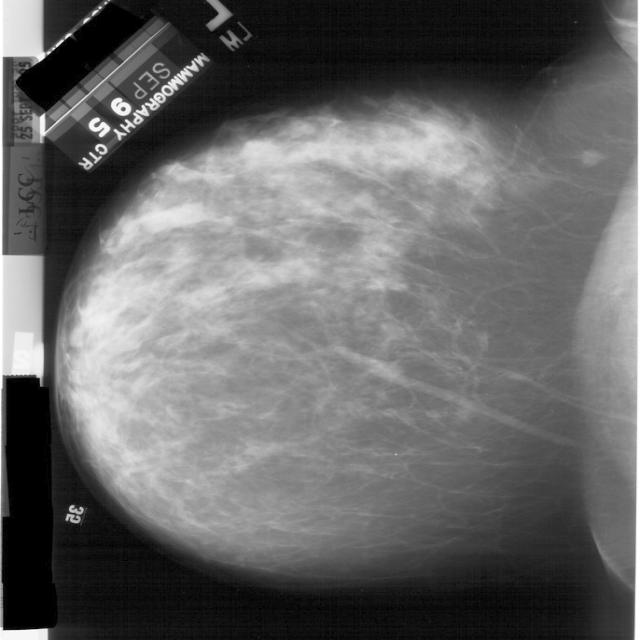tumour: (580, 147, 604, 167)
